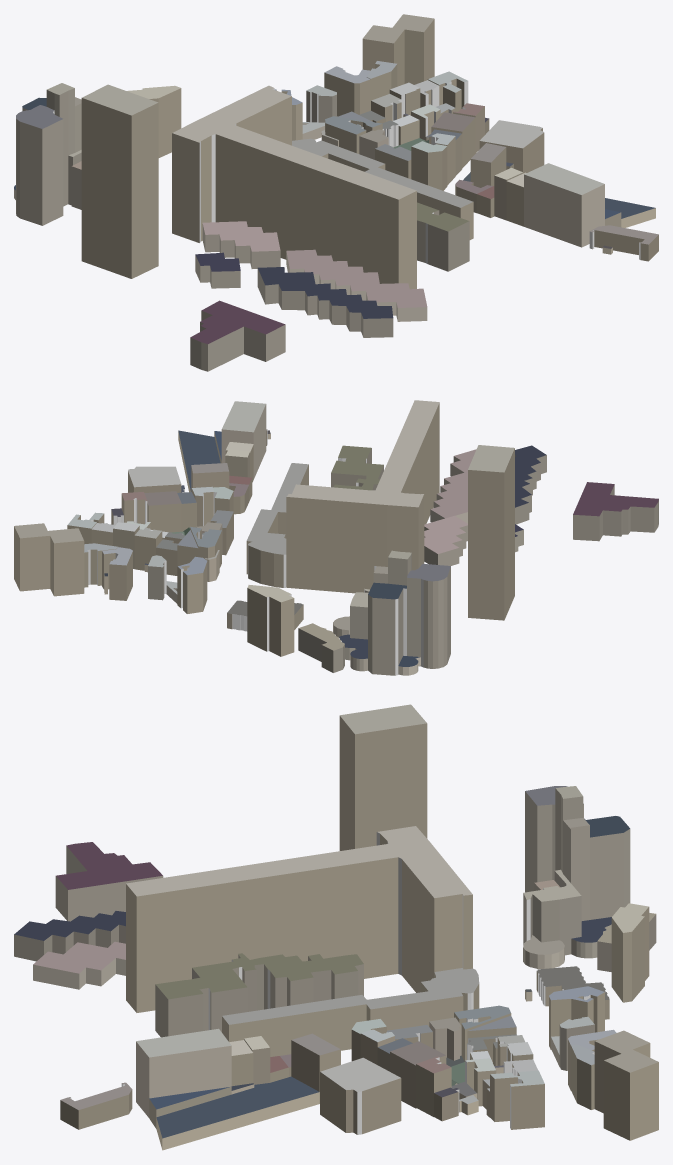
3 renders of one model, top to bottom at view 1: azimuth 30°, elevation 25°; view 2: azimuth 150°, elevation 25°; view 3: azimuth 270°, elevation 25°, orthographic. The views are drawn at different scales.
Parts seen in each view (by area): view 1: tuile; view 2: tuile; view 3: tuile.
Part boxes in pixels (x1,y1,x2,y2): tuile: [14, 14, 658, 371]; tuile: [14, 400, 658, 675]; tuile: [14, 704, 658, 1150].
Size of the model in its own units: 311 by 99.76 by 301.
